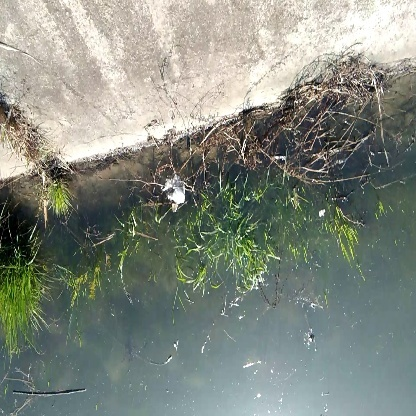branch: (11, 379, 97, 411)
grass: (1, 260, 51, 364)
